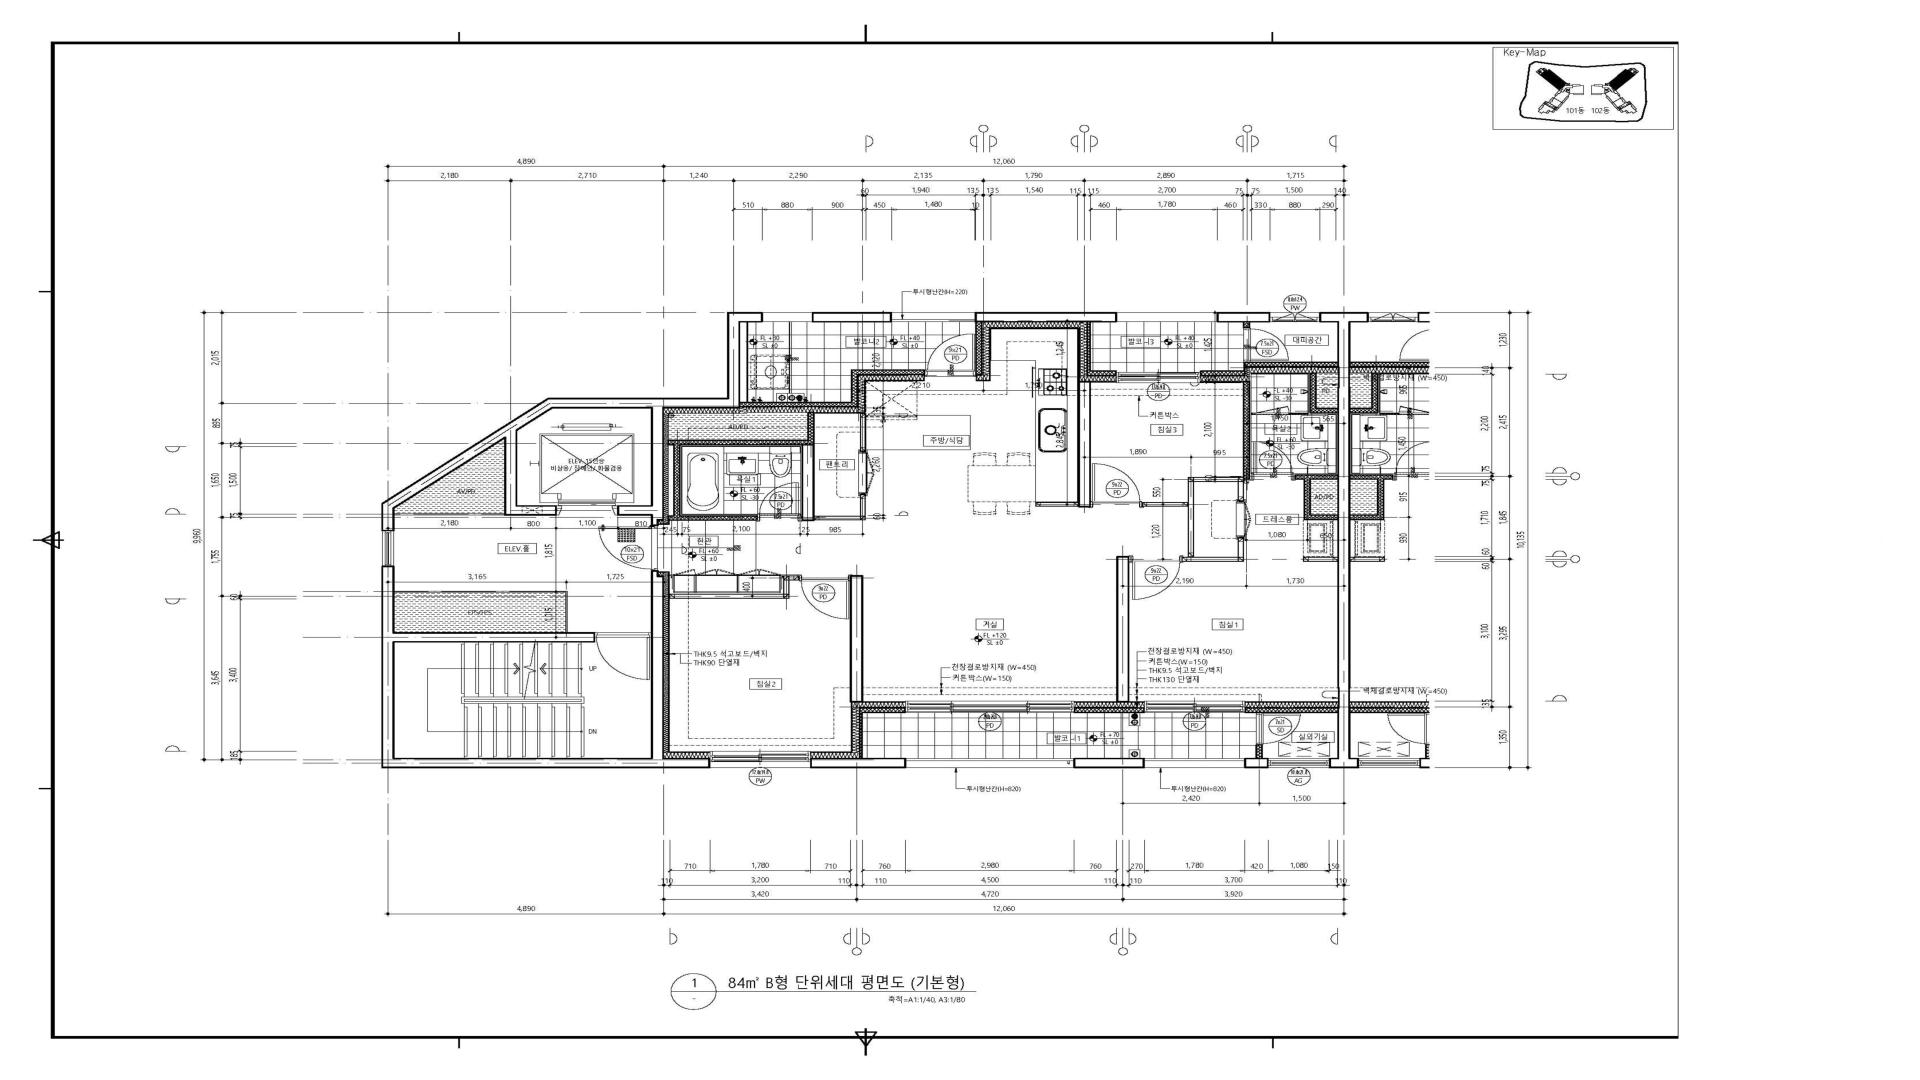door: (597, 525, 659, 571), (595, 632, 651, 682), (1091, 463, 1142, 508), (1129, 556, 1182, 600), (926, 332, 976, 377), (800, 575, 849, 620), (1250, 440, 1295, 480), (758, 481, 802, 521), (1244, 328, 1290, 361), (1255, 713, 1302, 745), (858, 452, 877, 493)
wall: (381, 311, 764, 531), (381, 566, 711, 769), (667, 411, 866, 521), (1142, 381, 1250, 562), (1319, 311, 1350, 769), (740, 369, 926, 407), (1035, 381, 1091, 508), (669, 575, 800, 599), (858, 707, 906, 758), (1294, 473, 1337, 520), (1116, 555, 1129, 703), (849, 575, 864, 703), (975, 311, 1117, 323), (1087, 323, 1117, 376), (1309, 373, 1337, 414), (810, 758, 906, 769), (812, 313, 891, 323), (1073, 758, 1145, 769), (1216, 311, 1270, 323), (1244, 361, 1337, 368), (1245, 707, 1337, 713), (1073, 707, 1145, 713), (976, 323, 982, 376), (1244, 758, 1269, 769), (860, 413, 866, 452), (1200, 371, 1246, 376), (1303, 556, 1337, 562), (1255, 744, 1263, 758), (1242, 322, 1250, 328)
window: (905, 700, 1075, 713), (709, 750, 811, 769), (906, 758, 1073, 769), (1145, 700, 1245, 713), (1117, 311, 1217, 323), (1145, 758, 1244, 769), (1116, 371, 1200, 382), (891, 311, 975, 323), (1269, 758, 1329, 769), (1270, 311, 1320, 323), (762, 311, 812, 322), (381, 531, 394, 566)
